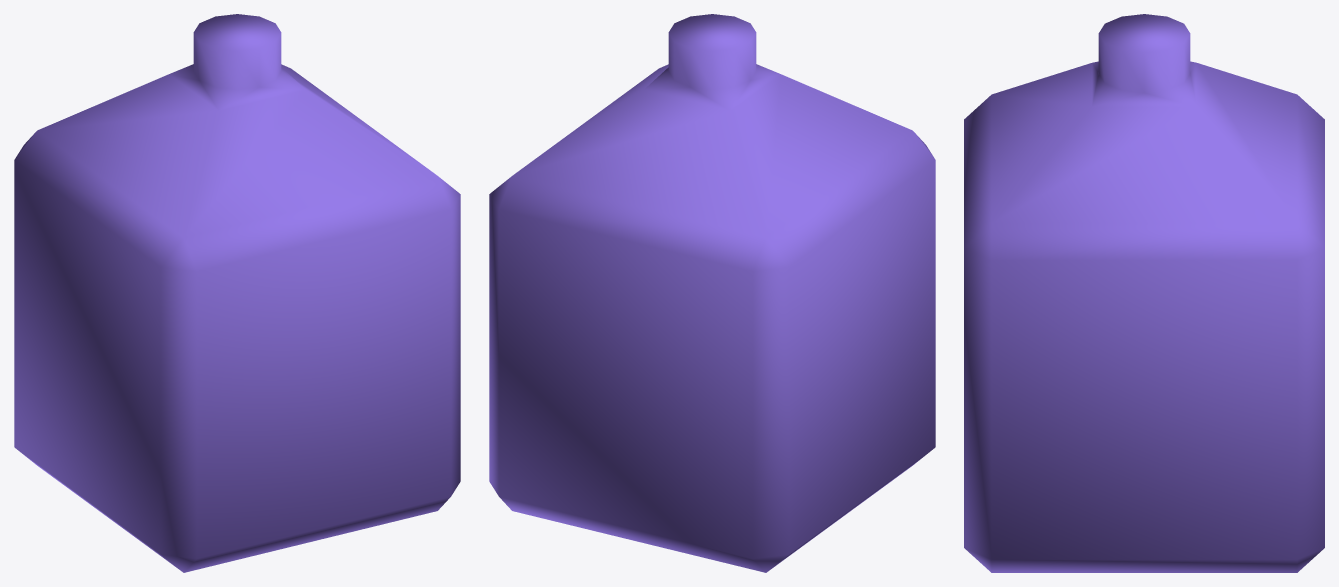
The model's file is bottle1_liquid.fbx.
The picture shows the model from 3 angles, left to right: view 1: azimuth 30°, elevation 25°; view 2: azimuth 150°, elevation 25°; view 3: azimuth 270°, elevation 25°; orthographic projection. The views are drawn at different scales.
Parts seen in each view (by area): view 1: bottle1.liquid; view 2: bottle1.liquid; view 3: bottle1.liquid.
Boxes of the visible parts, x1,y1,x2,y2 form: bottle1.liquid: (14,14,460,572); bottle1.liquid: (489,14,935,572); bottle1.liquid: (964,14,1324,572).
Bounding box in the file's own units: 6.74 × 9.79 × 6.74.
